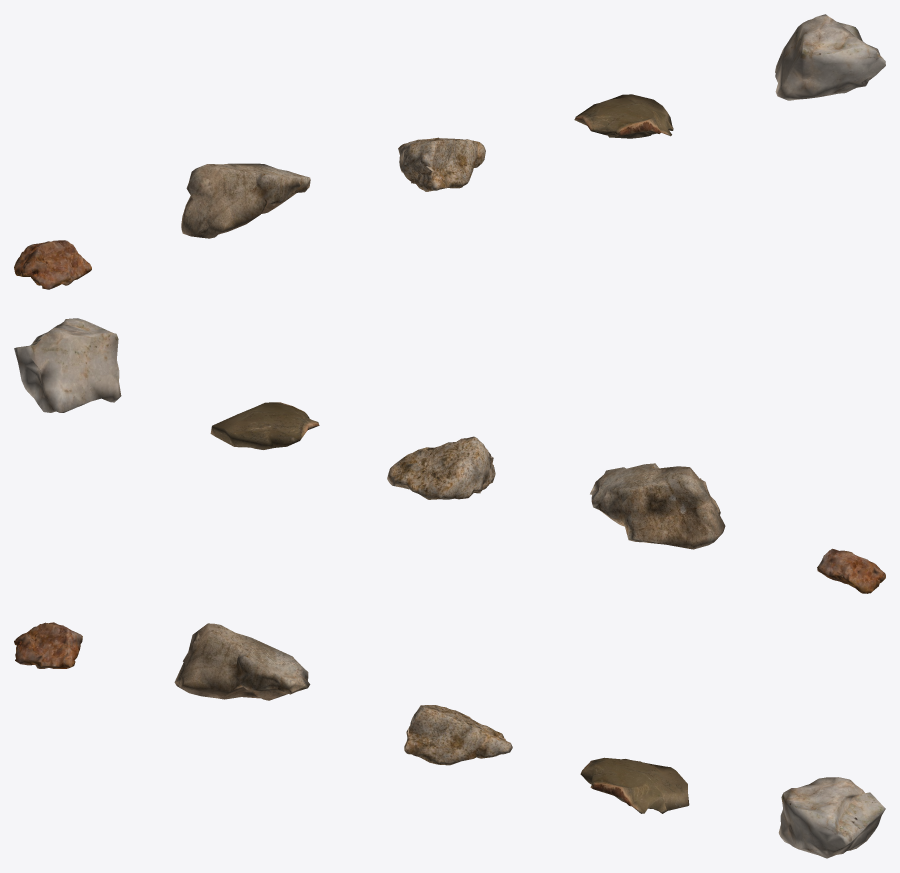
The model's file is namaqualand_stones_01_rt.gltf.
3 views of the same model, one above another, from view 1: azimuth 30°, elevation 25°; view 2: azimuth 150°, elevation 25°; view 3: azimuth 330°, elevation 25° (orthographic).
Parts seen in each view (by area): view 1: namaqualand_stones_01_e, namaqualand_stones_01_b, namaqualand_stones_01_c, namaqualand_stones_01_d, namaqualand_stones_01_a; view 2: namaqualand_stones_01_b, namaqualand_stones_01_e, namaqualand_stones_01_c, namaqualand_stones_01_d, namaqualand_stones_01_a; view 3: namaqualand_stones_01_b, namaqualand_stones_01_e, namaqualand_stones_01_c, namaqualand_stones_01_d, namaqualand_stones_01_a.
Part boxes in pixels (x1=…): namaqualand_stones_01_e: x1=775, y1=14, x2=885, y2=100; namaqualand_stones_01_b: x1=181, y1=163, x2=310, y2=238; namaqualand_stones_01_c: x1=398, y1=137, x2=485, y2=191; namaqualand_stones_01_d: x1=574, y1=94, x2=673, y2=138; namaqualand_stones_01_a: x1=14, y1=240, x2=91, y2=289; namaqualand_stones_01_b: x1=590, y1=463, x2=725, y2=549; namaqualand_stones_01_e: x1=14, y1=318, x2=121, y2=412; namaqualand_stones_01_c: x1=387, y1=436, x2=495, y2=499; namaqualand_stones_01_d: x1=210, y1=402, x2=319, y2=449; namaqualand_stones_01_a: x1=817, y1=548, x2=885, y2=593; namaqualand_stones_01_b: x1=174, y1=623, x2=310, y2=700; namaqualand_stones_01_e: x1=778, y1=777, x2=885, y2=858; namaqualand_stones_01_c: x1=404, y1=705, x2=512, y2=765; namaqualand_stones_01_d: x1=580, y1=757, x2=689, y2=813; namaqualand_stones_01_a: x1=14, y1=622, x2=82, y2=668.
Size of the model in its own units: 1.02 by 0.084 by 0.1116.
1 material, 1 textured.
